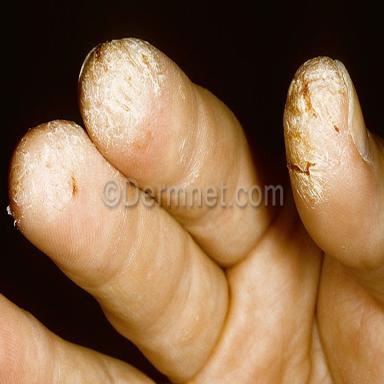eczema: (283, 57, 371, 208), (79, 38, 169, 155), (9, 121, 95, 233)
